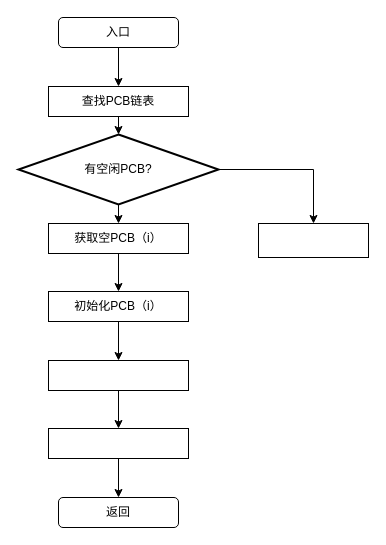
The diagram is 386 pixels wide and 545 high, and some of its shapes have lost their labels. The shapes that lost their labels are listed below. From the top down, each one's centre as x and y in pixels, then its label:
pixel 313 240: 创建失败
pixel 118 375: PCB（i）入就绪队列
pixel 118 443: PCB（i）入家族链
